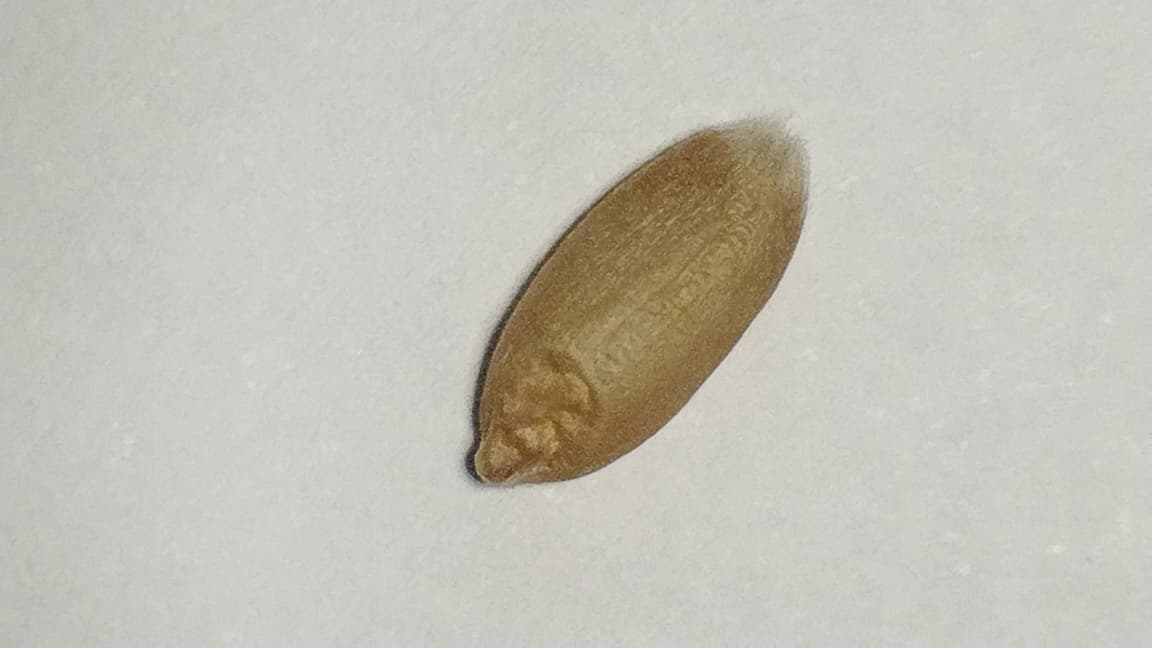healthy: (468, 128, 807, 485)
